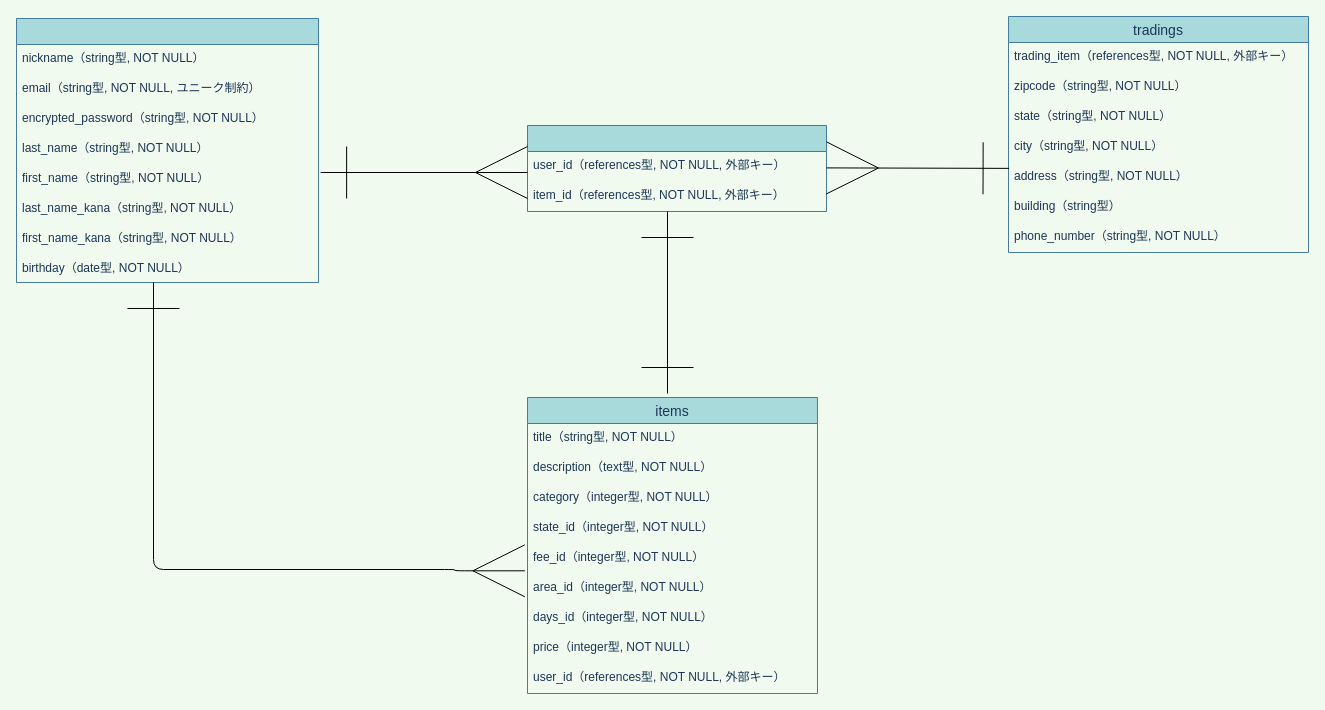
This 1325x710 diagram has some shape labels left out. Each missing label, with the box of its shape:
histories: (526, 124, 826, 212)
users: (16, 18, 318, 282)
